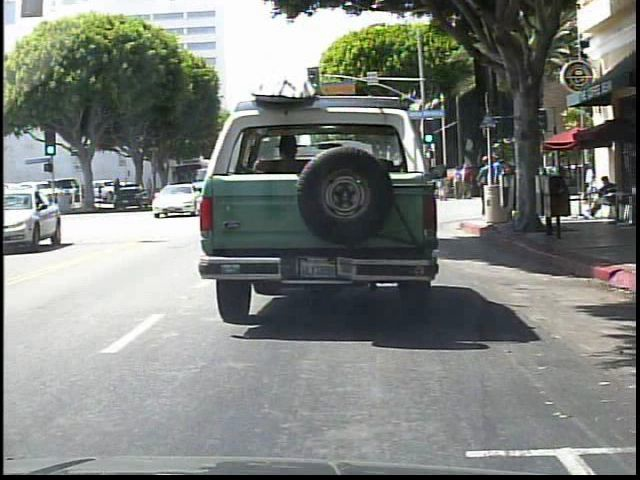person: (587, 172, 621, 219), (490, 154, 507, 218), (477, 156, 493, 215), (493, 159, 509, 215), (535, 163, 549, 206), (460, 161, 474, 201), (525, 166, 537, 206), (585, 162, 596, 199), (454, 166, 465, 200), (438, 168, 449, 202), (428, 174, 438, 204)
